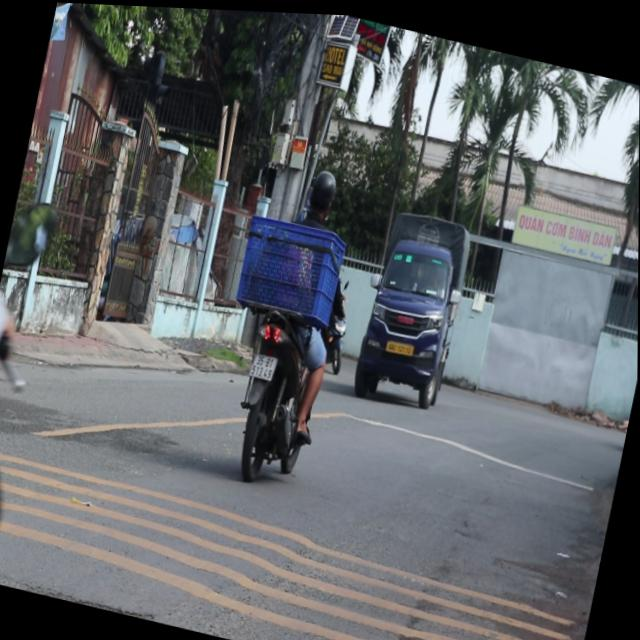helmet: (302, 161, 341, 220)
licenseplate: (216, 148, 369, 491)
nohelmet: (248, 347, 277, 375)
